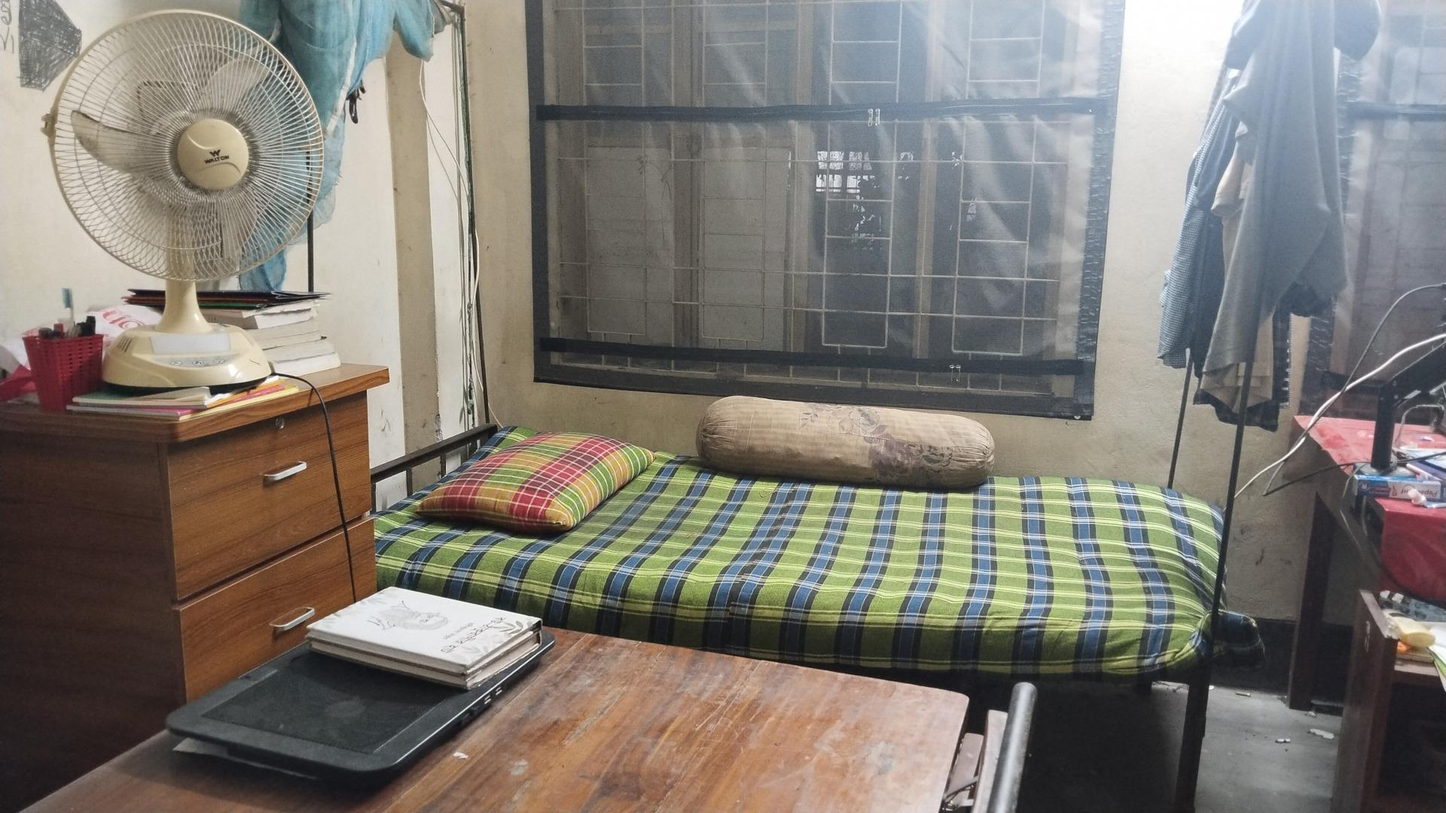Book: (305, 586, 545, 688)
Fan: (50, 17, 328, 387)
Pillow: (694, 396, 994, 486), (421, 436, 649, 526)
Window: (536, 0, 688, 364), (934, 4, 1058, 384), (806, 8, 927, 376), (689, 0, 800, 368)
